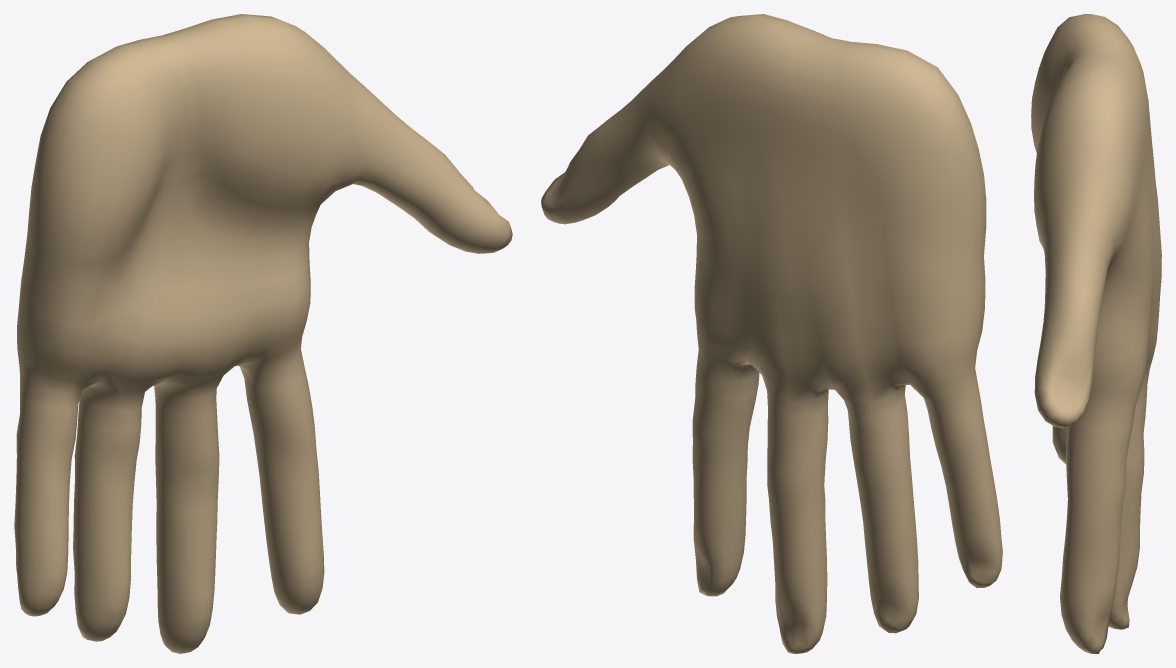
File: Mano.fbx
3 renders of one model, left to right at view 1: azimuth 30°, elevation 25°; view 2: azimuth 150°, elevation 25°; view 3: azimuth 270°, elevation 25°, orthographic. The views are drawn at different scales.
Parts seen in each view (by area): view 1: Mano_LP; view 2: Mano_LP; view 3: Mano_LP.
Boxes of the visible parts, x1,y1,x2,y2 form: Mano_LP: (14,14,512,653); Mano_LP: (541,14,1002,653); Mano_LP: (1031,14,1161,653).
Bounding box in the file's own units: 37.08 × 9.56 × 46.58.
